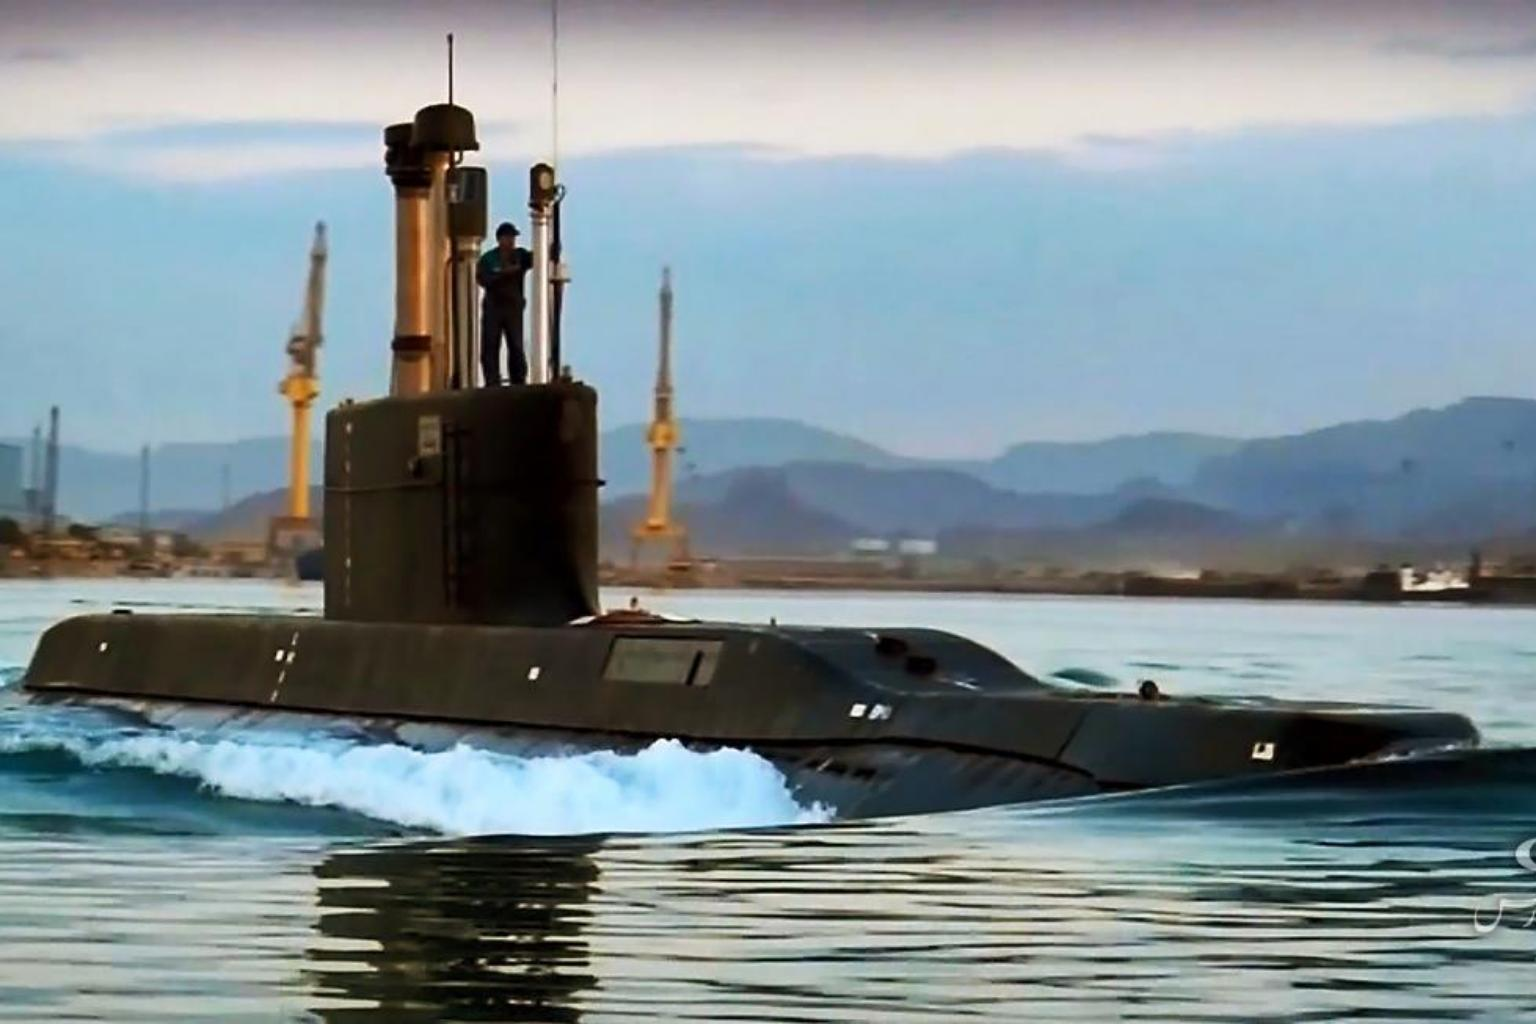Submarine: (0, 40, 1536, 888)
